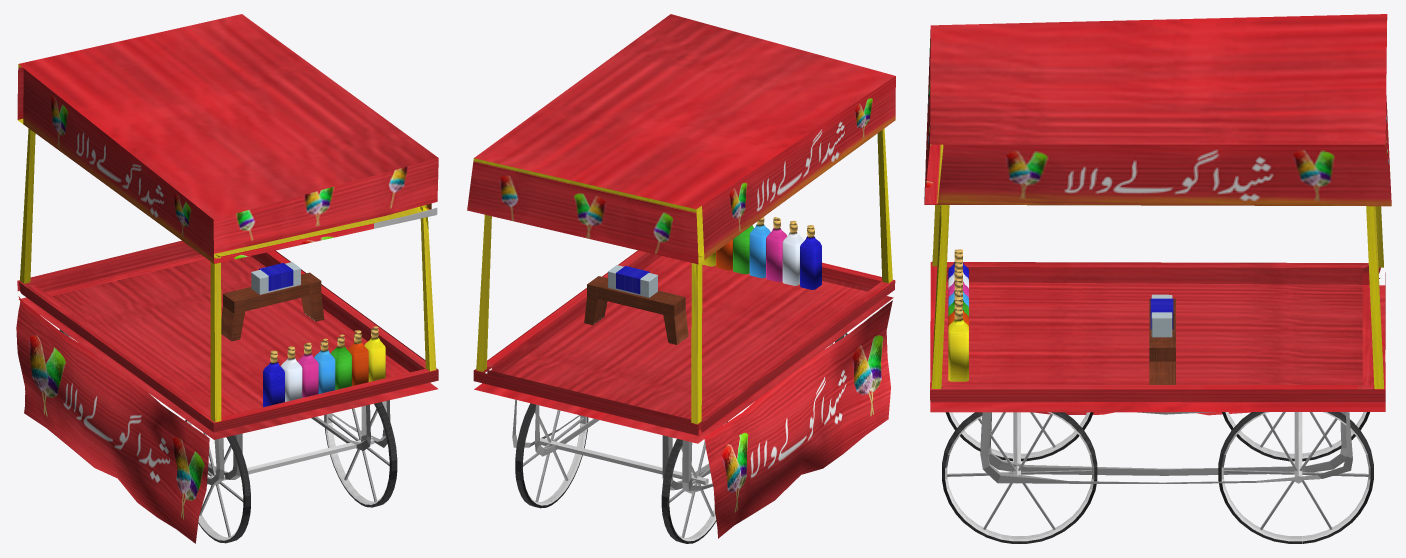
File: golay wala.fbx
The picture shows the model from 3 angles, left to right: view 1: azimuth 30°, elevation 25°; view 2: azimuth 150°, elevation 25°; view 3: azimuth 270°, elevation 25°; orthographic projection. The views are drawn at different scales.
Visible parts, largest first — view 1: GolGapy_Material.002_0, GolGapy_Material.011_0, Object002, Object001; view 2: GolGapy_Material.002_0, GolGapy_Material.011_0, Object002, Object001; view 3: GolGapy_Material.002_0, GolGapy_Material.011_0.
Boxes of the visible parts, bbox=[...] form: GolGapy_Material.002_0: bbox=[16, 14, 438, 543]; GolGapy_Material.011_0: bbox=[297, 326, 385, 397]; Object002: bbox=[263, 350, 284, 407]; Object001: bbox=[281, 346, 302, 401]; GolGapy_Material.002_0: bbox=[467, 14, 895, 543]; GolGapy_Material.011_0: bbox=[702, 216, 786, 281]; Object002: bbox=[800, 225, 821, 289]; Object001: bbox=[782, 220, 803, 285]; GolGapy_Material.002_0: bbox=[924, 14, 1391, 543]; GolGapy_Material.011_0: bbox=[948, 269, 968, 381].
Bounding box in the file's own units: 6526 × 9670 × 9654.
Materials: 1 (1 with a texture image).
